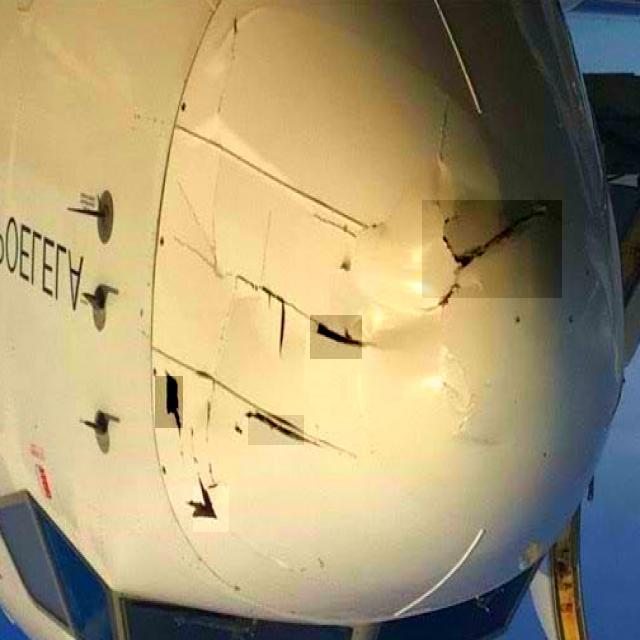crack: (423, 201, 563, 299), (311, 316, 363, 360), (249, 416, 305, 446), (194, 487, 230, 533), (156, 377, 184, 429)
